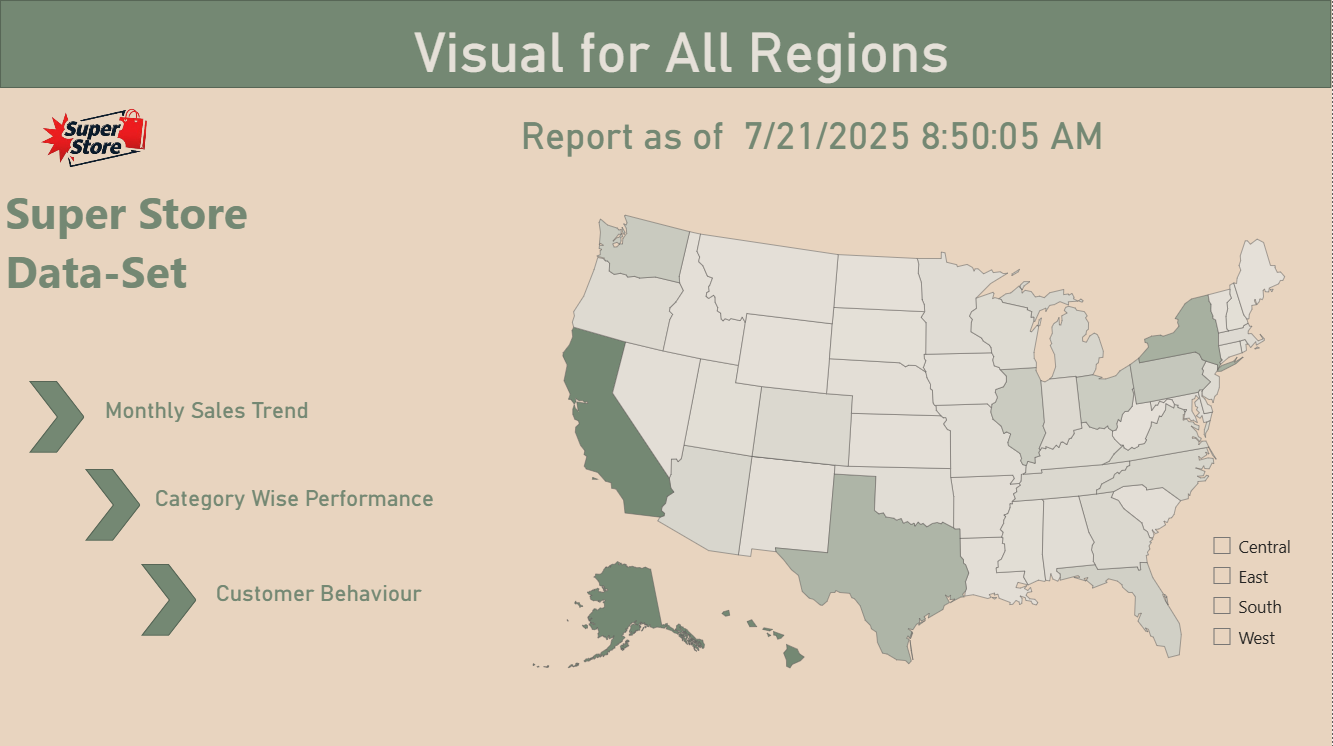

The page's visual inventory and layout, read from the dashboard file:
{"tool":"powerbi","page":{"name":"Over-View","canvas":[1280,720],"ordinal":0},"visuals":[{"type":"shape","box":[0,0,1280,84.6],"z":0},{"type":"shape","box":[162.4,84.6,1117.6,84.6],"z":1000},{"type":"shape","box":[135.2,542.7,53.5,69.1],"z":2000},{"type":"shape","box":[81.7,451.3,53.5,69.1],"z":3000},{"type":"shape","box":[28.2,366.7,53.5,69.1],"z":4000},{"type":"textbox","box":[0,169.2,272.3,179],"z":5000},{"type":"actionButton","title":"Monthly Sales Trend","box":[101.2,381.3,200.4,39.9],"z":6000},{"type":"actionButton","title":"Category Wise Performance","box":[148.8,465.9,286,39.9],"z":7000},{"type":"actionButton","title":"Customer Behaviour","box":[208.1,557.3,200.4,39.9],"z":8000},{"type":"shapeMap","fields":{"Category":["Orders.State"],"Value":["Orders.Total Qunatity Sold"]},"box":[466.9,170.2,813.1,508.7],"z":9000},{"type":"slicer","fields":{"Values":["Orders.Region"]},"box":[1153.6,505.8,117.7,133.3],"z":10000},{"type":"image","box":[0,85.6,188.7,84.6],"z":11000},{"type":"card","fields":{"Values":["Orders.Date"]},"box":[272.3,85.6,1007.7,83.6],"z":12000},{"type":"card","fields":{"Values":["Orders.Slice"]},"box":[169.2,1,971.7,84.6],"z":13000}]}

Visuals, with their boxes in screenshot pixels (x1, y1, x2, y2), scaled from the page's 1280x720 canvas onto the 1333x746 screenshot:
shape: {"x1": 0, "y1": 0, "x2": 1332, "y2": 88}
shape: {"x1": 169, "y1": 88, "x2": 1332, "y2": 175}
shape: {"x1": 141, "y1": 562, "x2": 197, "y2": 634}
shape: {"x1": 85, "y1": 468, "x2": 141, "y2": 539}
shape: {"x1": 29, "y1": 380, "x2": 85, "y2": 452}
textbox: {"x1": 0, "y1": 175, "x2": 284, "y2": 361}
"Monthly Sales Trend" actionButton: {"x1": 105, "y1": 395, "x2": 314, "y2": 436}
"Category Wise Performance" actionButton: {"x1": 155, "y1": 483, "x2": 453, "y2": 524}
"Customer Behaviour" actionButton: {"x1": 217, "y1": 577, "x2": 425, "y2": 619}
shapeMap - Orders.State x Orders.Total Qunatity Sold: {"x1": 486, "y1": 176, "x2": 1332, "y2": 703}
slicer - Orders.Region: {"x1": 1201, "y1": 524, "x2": 1324, "y2": 662}
image: {"x1": 0, "y1": 89, "x2": 197, "y2": 176}
card - Orders.Date: {"x1": 284, "y1": 89, "x2": 1332, "y2": 175}
card - Orders.Slice: {"x1": 176, "y1": 1, "x2": 1188, "y2": 89}
